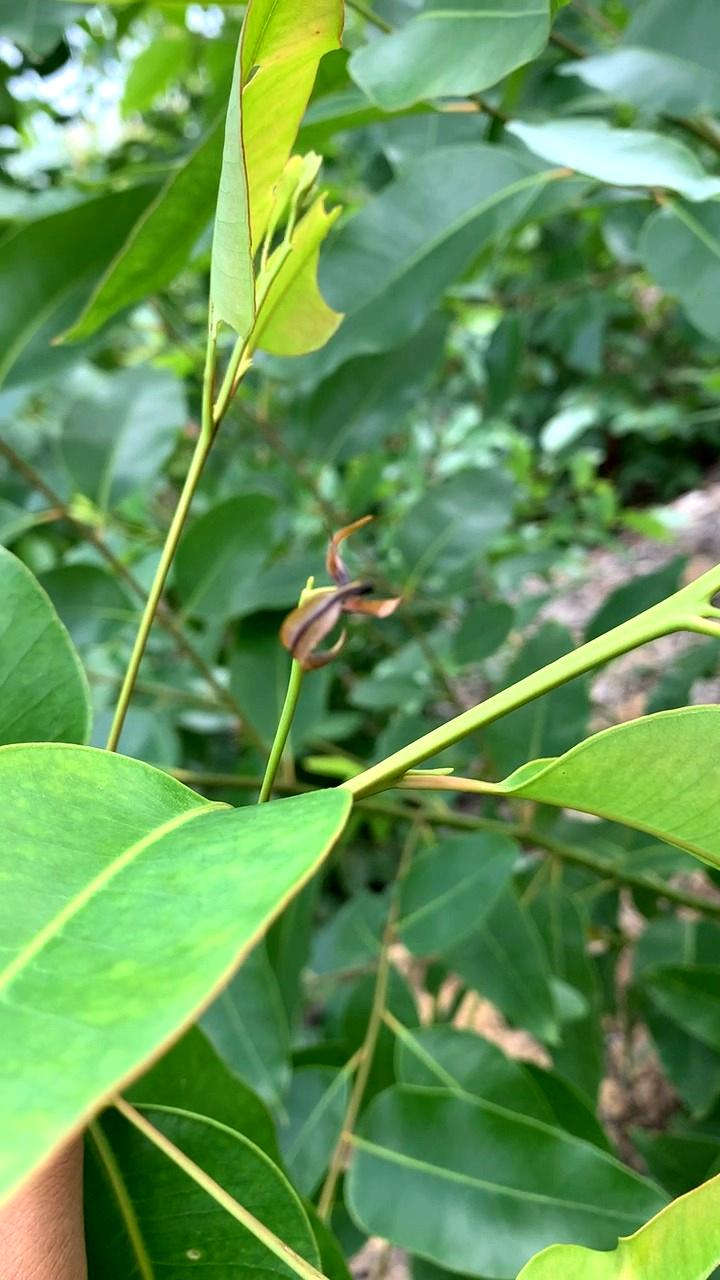Helopeltis-Withered Sprout: (275, 504, 415, 688)
